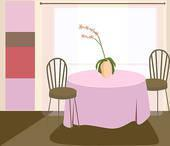chair: (45, 56, 80, 127), (143, 47, 169, 112)
diningtable: (64, 68, 151, 129)
